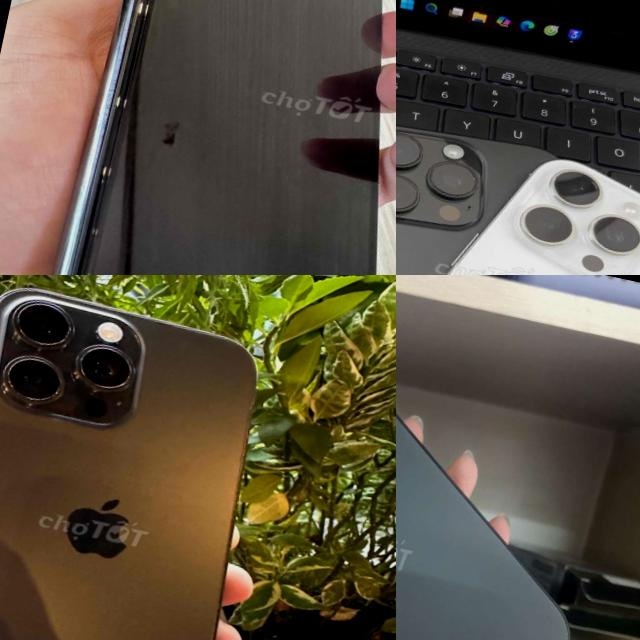gen_14: (396, 290, 635, 640)
gen_16: (0, 287, 254, 640), (443, 159, 640, 275)
